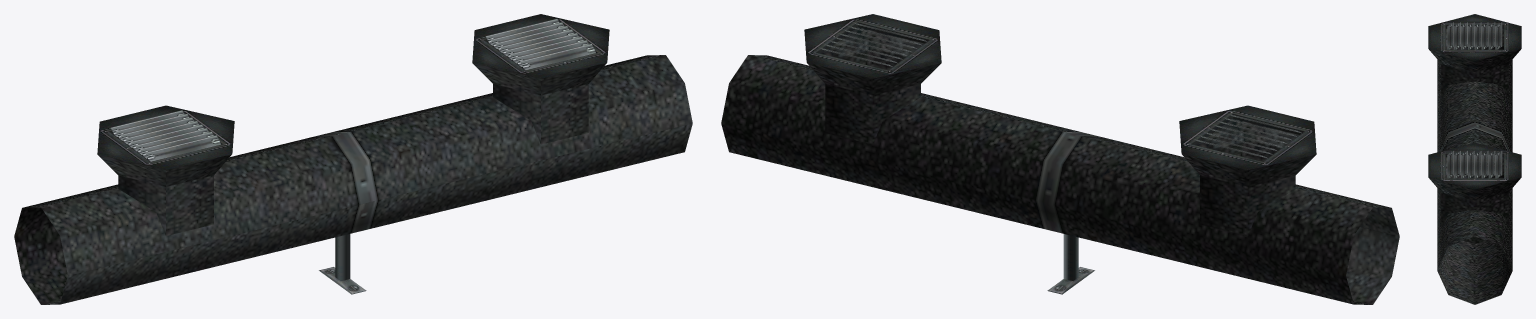
Rendered from airducts_round_mid.fbx.
3 renders of one model, left to right at view 1: azimuth 30°, elevation 25°; view 2: azimuth 150°, elevation 25°; view 3: azimuth 270°, elevation 25°, orthographic. The views are drawn at different scales.
Parts seen in each view (by area): view 1: mesh_0; view 2: mesh_0; view 3: mesh_0.
Part boxes in pixels (x1,y1,x2,y2): mesh_0: (14,14,692,304); mesh_0: (721,14,1399,304); mesh_0: (1428,14,1521,304).
Bounding box in the file's own units: 200 × 58.32 × 36.8.
Materials: 1 (1 with a texture image).
